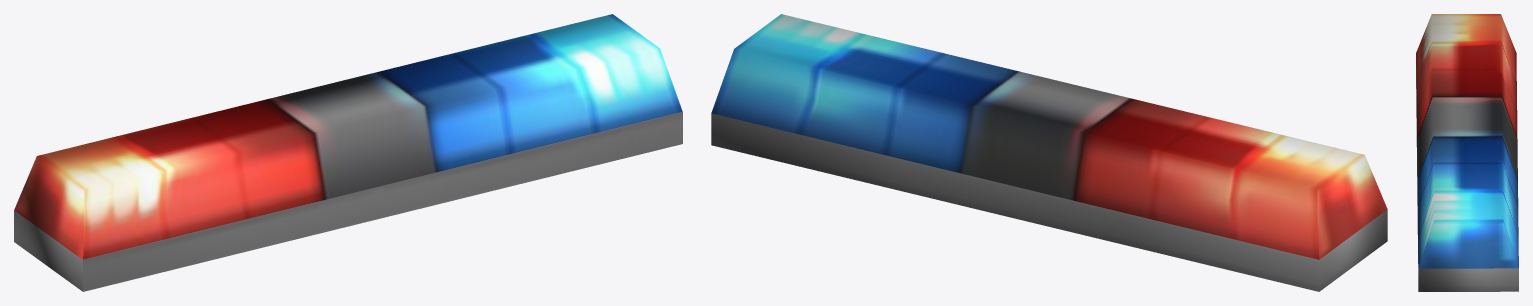
File: Police_Car_Lights.fbx
3 views of the same model, side by side, from view 1: azimuth 30°, elevation 25°; view 2: azimuth 150°, elevation 25°; view 3: azimuth 270°, elevation 25° (orthographic). The views are drawn at different scales.
Visible parts, largest first — view 1: Cube.001; view 2: Cube.001; view 3: Cube.001.
Part boxes in pixels (x1,y1,x2,y2): Cube.001: (14,14,682,291); Cube.001: (711,14,1387,291); Cube.001: (1416,14,1518,291).
Bounding box in the file's own units: 30.1 × 4.34 × 6.07.
1 material, 1 textured.
